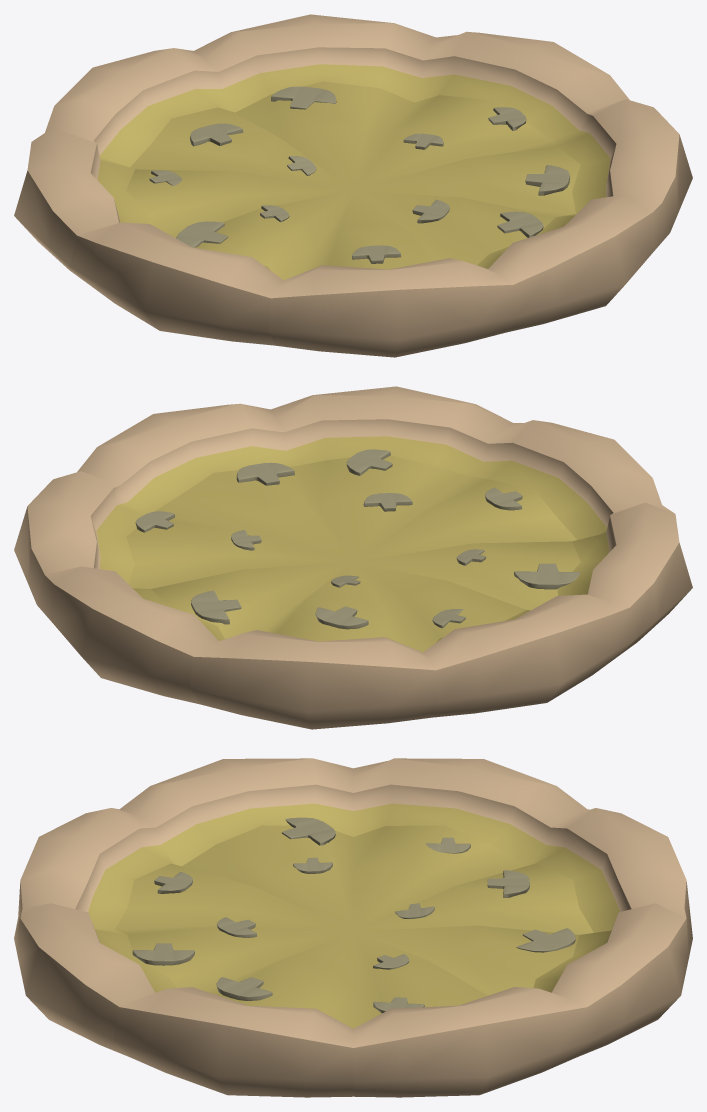
The model's file is pizza_combined.fbx.
The picture shows the model from 3 angles, top to bottom: view 1: azimuth 30°, elevation 25°; view 2: azimuth 150°, elevation 25°; view 3: azimuth 270°, elevation 25°; orthographic projection. The views are drawn at different scales.
Parts seen in each view (by area): view 1: pCylinder14; view 2: pCylinder14; view 3: pCylinder14.
Part boxes in pixels (x1=…): pCylinder14: x1=14, y1=14, x2=692, y2=357; pCylinder14: x1=14, y1=386, x2=692, y2=729; pCylinder14: x1=14, y1=758, x2=692, y2=1097.
Size of the model in its own units: 1.97 by 0.2833 by 1.97.
